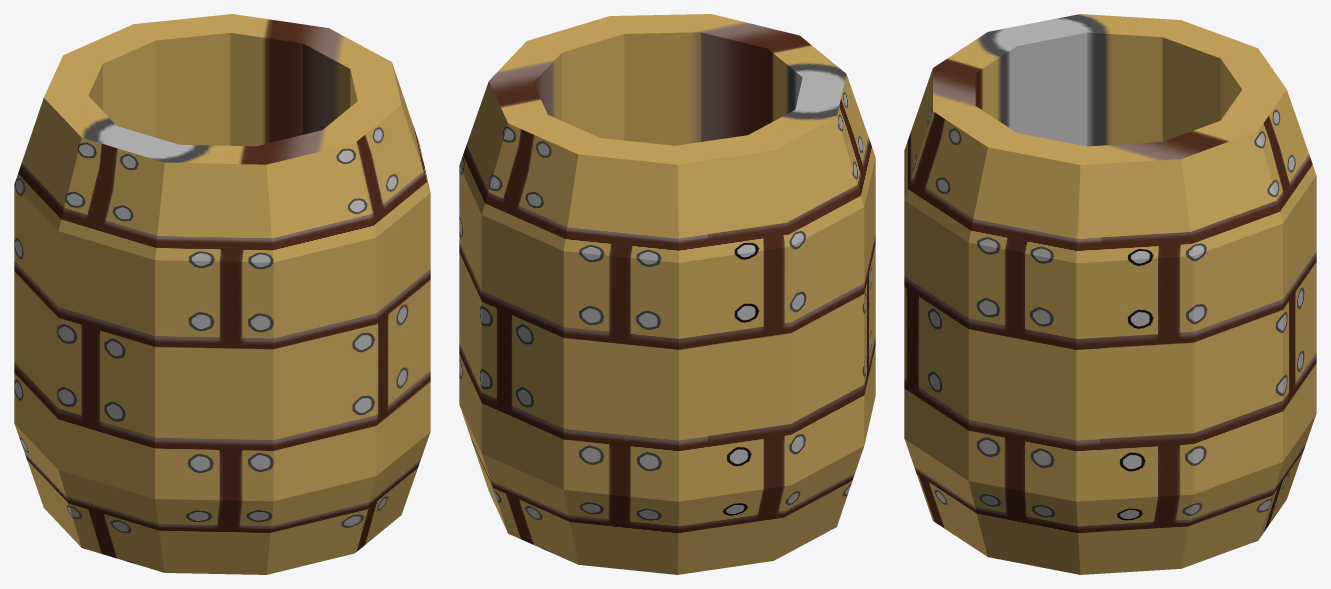
The model's file is Bucketblend.fbx.
3 renders of one model, left to right at view 1: azimuth 30°, elevation 25°; view 2: azimuth 150°, elevation 25°; view 3: azimuth 270°, elevation 25°, orthographic.
Visible parts, largest first — view 1: Cylinder; view 2: Cylinder; view 3: Cylinder.
Part boxes in pixels (x1,y1,x2,y2): Cylinder: (14, 14, 430, 574); Cylinder: (459, 14, 875, 574); Cylinder: (904, 14, 1316, 574).
Bounding box in the file's own units: 198 × 215 × 196.
